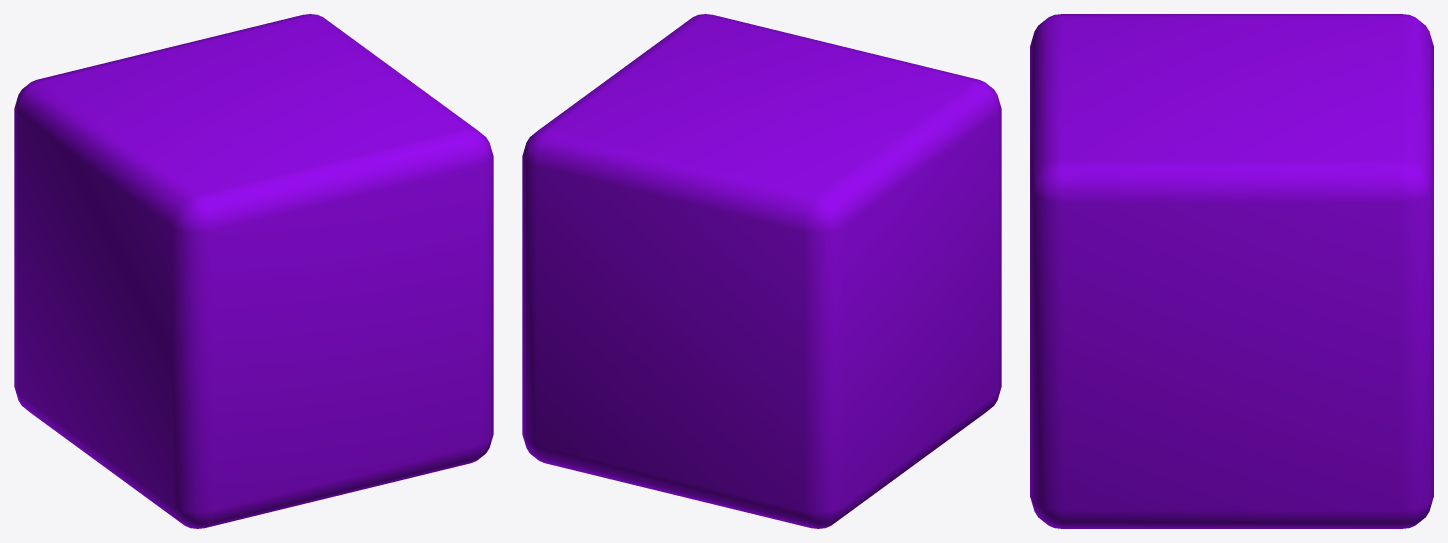
The picture shows the model from 3 angles, left to right: view 1: azimuth 30°, elevation 25°; view 2: azimuth 150°, elevation 25°; view 3: azimuth 270°, elevation 25°; orthographic projection. The views are drawn at different scales.
Visible parts, largest first — view 1: Cube; view 2: Cube; view 3: Cube.
Boxes of the visible parts, left/top/right/bottom form: Cube: left=14, top=14, right=493, bottom=528; Cube: left=522, top=14, right=1001, bottom=528; Cube: left=1030, top=14, right=1433, bottom=528.
Bounding box in the file's own units: 200 × 200 × 200.
